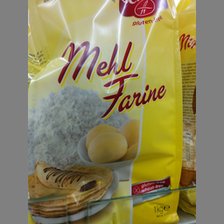flour: (29, 1, 183, 223)
